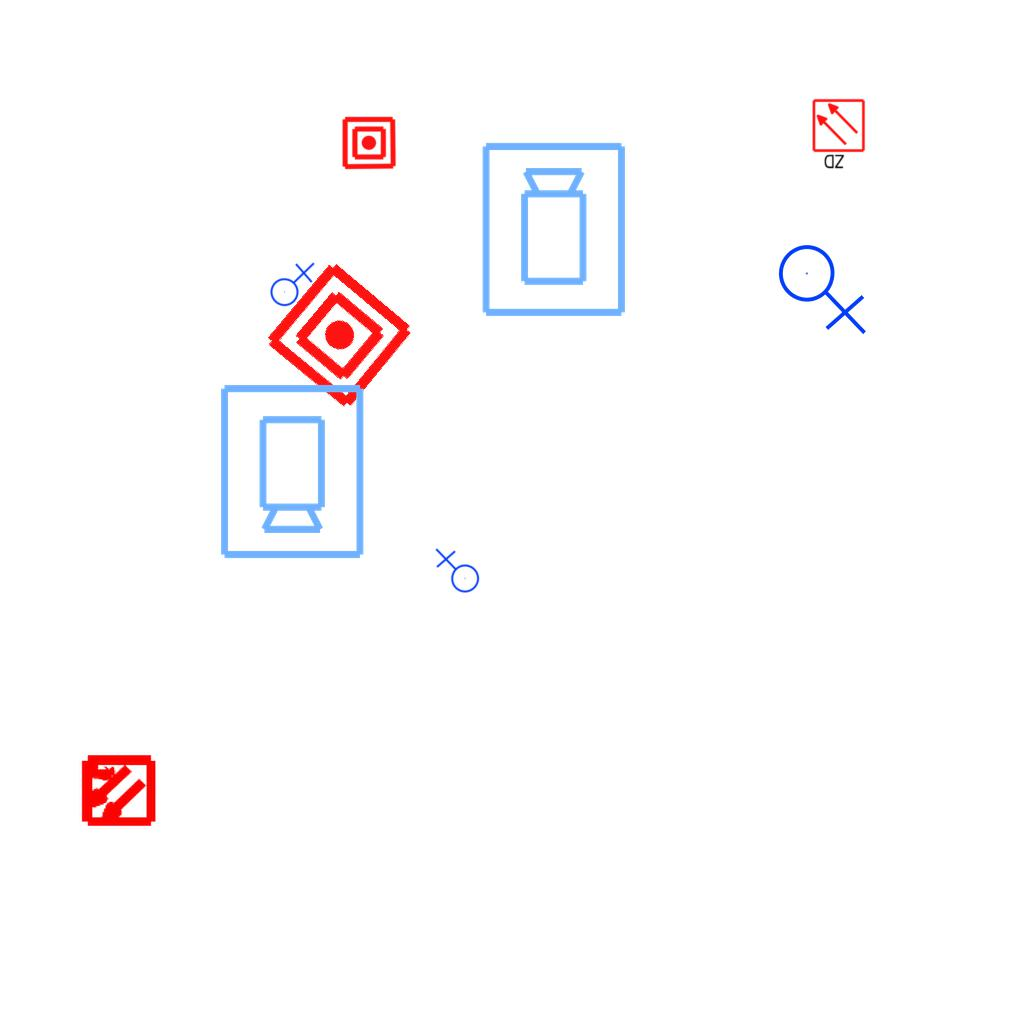Elektroanschluss_allgemein_230V_Geraeteanschlussdose_230V: (777, 236, 871, 335), (433, 548, 480, 597), (266, 260, 315, 307)
KFO_Kamera_mit_Festobjektiv: (478, 139, 632, 321), (214, 380, 368, 562)
NAM-Nichtautomatischer_Melder: (259, 255, 420, 416), (341, 115, 397, 171)
OT_Multisensormelder_(Kombination_RMO_WMD): (60, 734, 173, 847)
ZD_Melder_in_Zwischendecke_mit_Revisionsoeffnung_mind_40_x_40_cm: (811, 98, 868, 172)
